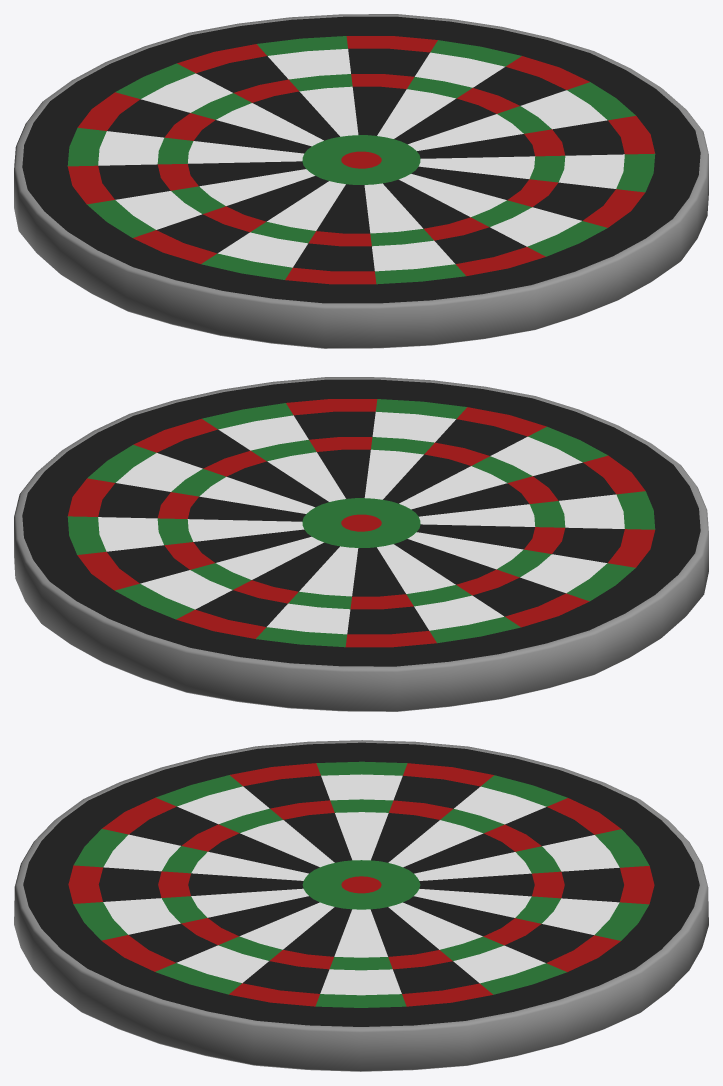
File: Dartboard.FBX
3 views of the same model, one above another, from view 1: azimuth 30°, elevation 25°; view 2: azimuth 150°, elevation 25°; view 3: azimuth 270°, elevation 25° (orthographic).
Parts seen in each view (by area): view 1: DartBoard; view 2: DartBoard; view 3: DartBoard.
Part boxes in pixels (<box>): DartBoard: <box>14,14,708,348</box>; DartBoard: <box>14,377,708,711</box>; DartBoard: <box>14,740,708,1071</box>.
Bounding box in the file's own units: 157 × 10.54 × 158.
